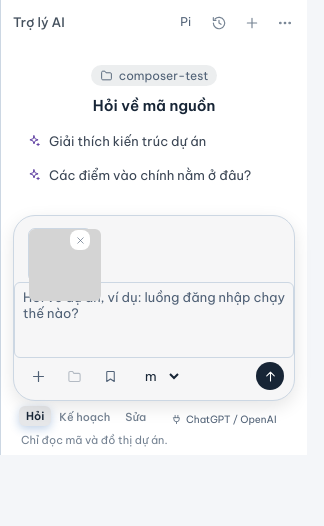
AgentPanel composer › không gửi ảnh tới model không hỗ trợ và hiện lý do rõ ràng
The width and height of the screenshot is (324, 526).
Type "xem ảnh" into the text box named "Tin nhắn cho trợ lý AI" at (154, 320), box [14,282,294,358]
Then press Enter
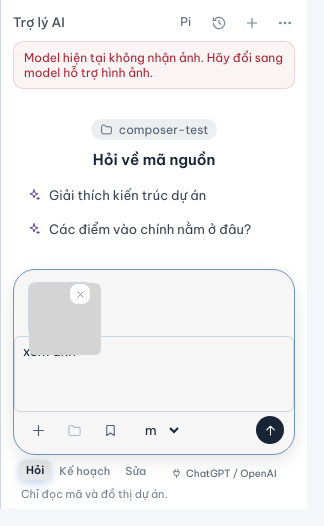
Expected: the message shows "Model hiện tại không nhận ảnh", [24,50,283,80]
